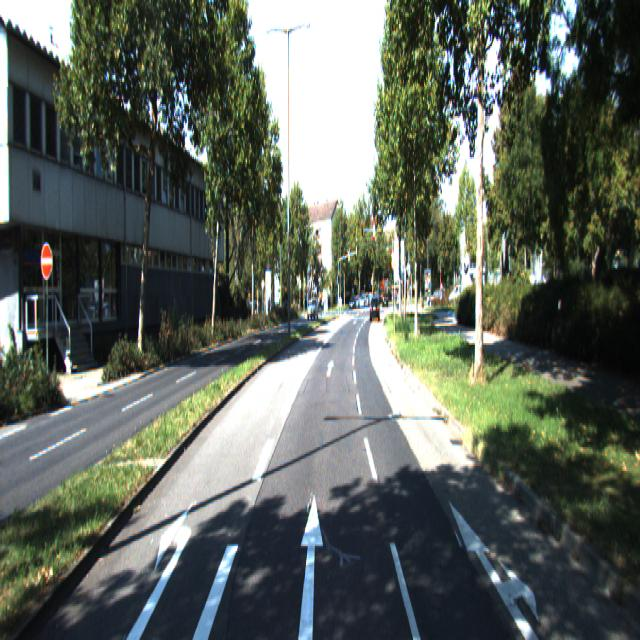Car: (370, 294, 380, 321), (307, 298, 319, 320)
DontCare: (424, 272, 465, 309), (346, 274, 368, 316), (381, 286, 391, 313)
